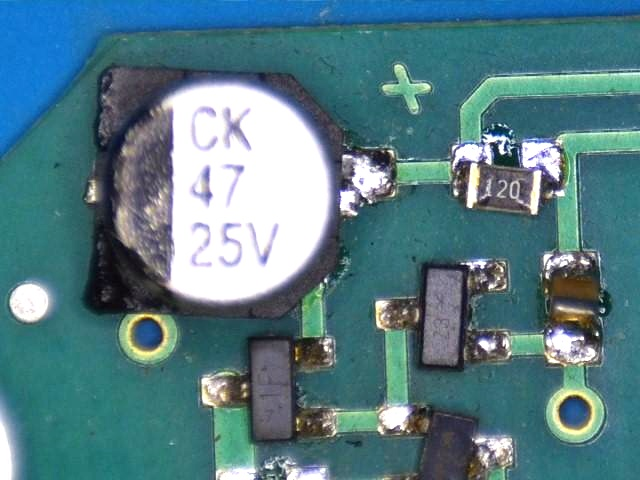pcb_defect: (85, 66, 396, 320), (378, 404, 515, 480), (452, 141, 565, 216), (544, 253, 602, 364)
